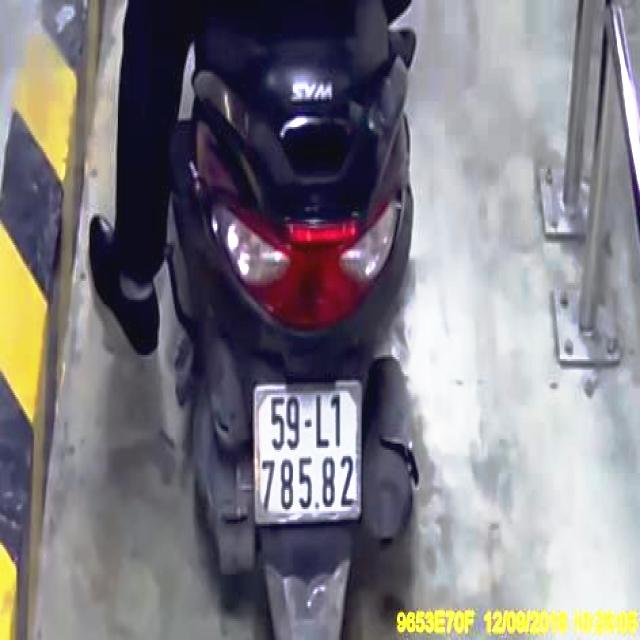license_plate: (255, 383, 361, 522)
